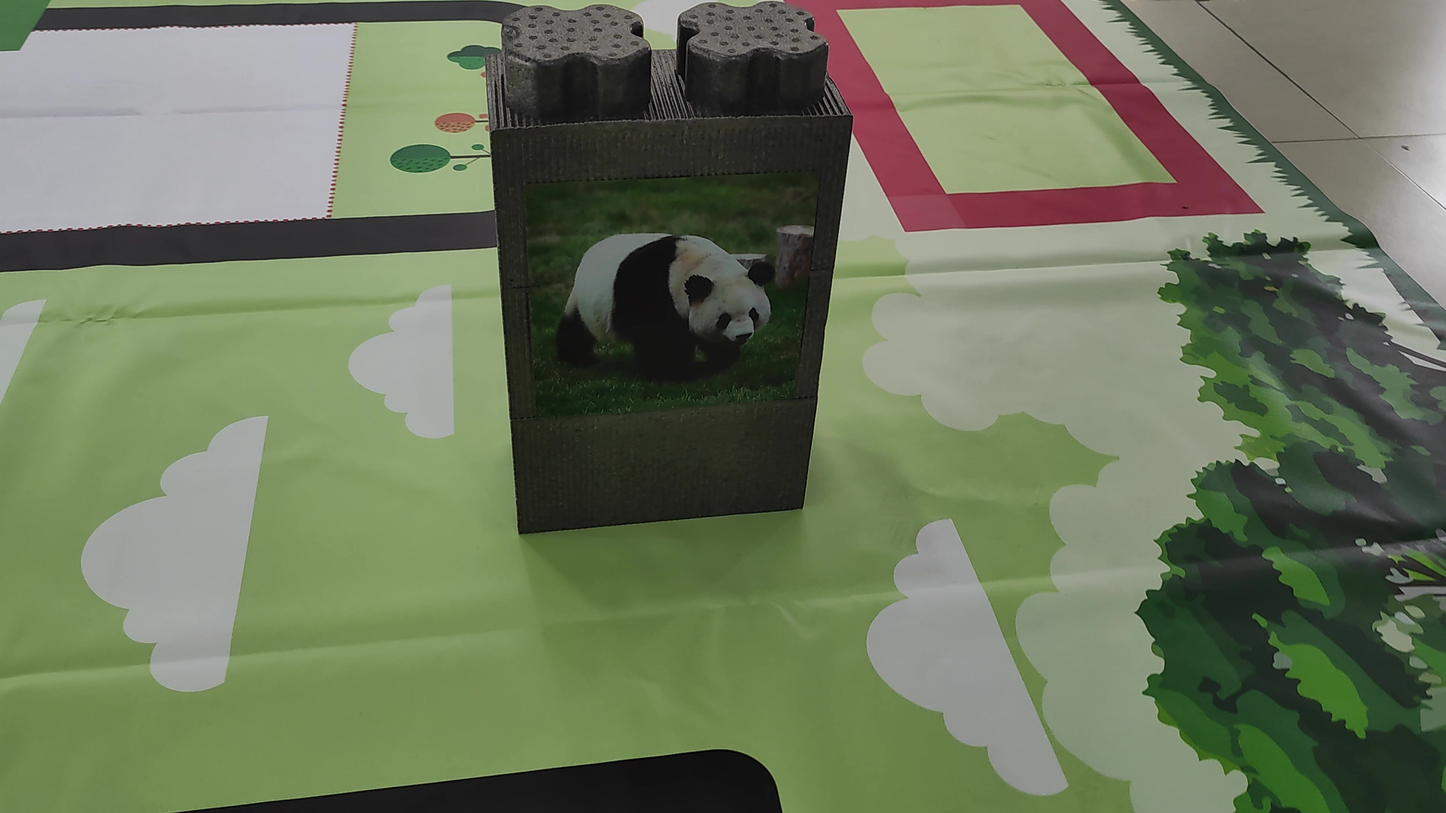panda: (539, 186, 825, 405)
